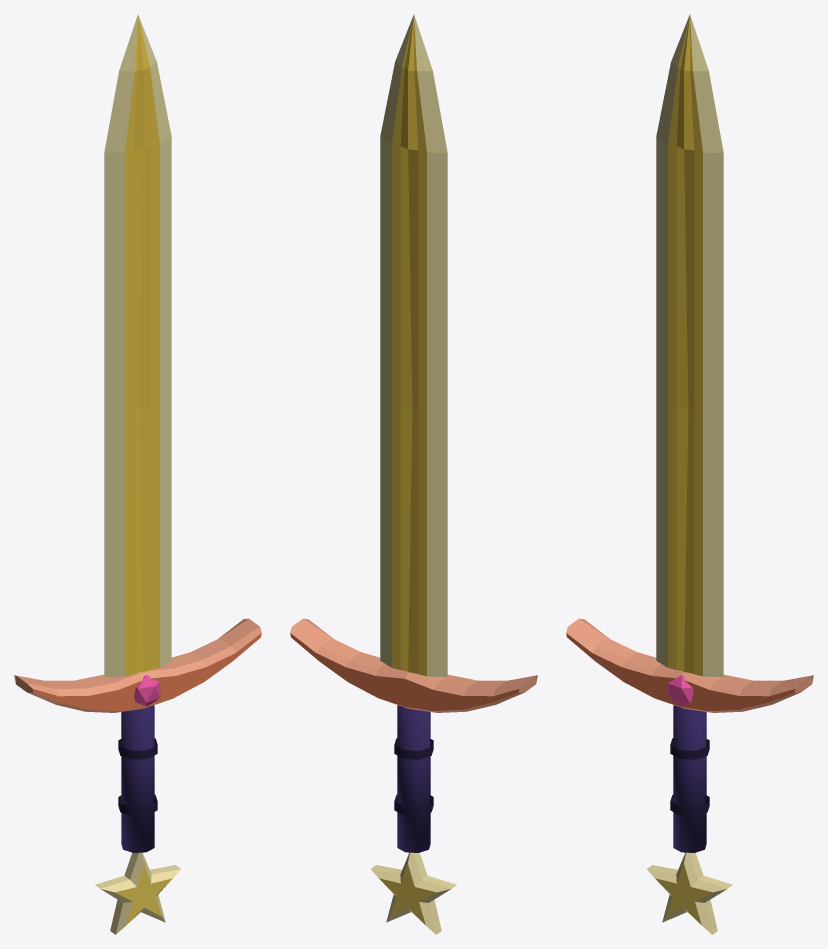
The model's file is starfury.glb.
The picture shows the model from 3 angles, left to right: view 1: azimuth 30°, elevation 25°; view 2: azimuth 150°, elevation 25°; view 3: azimuth 330°, elevation 25°; orthographic projection.
Visible parts, largest first — view 1: starfury_v0; view 2: starfury_v0; view 3: starfury_v0.
Part boxes in pixels (<box>): starfury_v0: <box>14,14,261,934</box>; starfury_v0: <box>290,14,537,934</box>; starfury_v0: <box>566,14,813,934</box>.
Bounding box in the file's own units: 0.3277 × 1.23 × 0.056.
